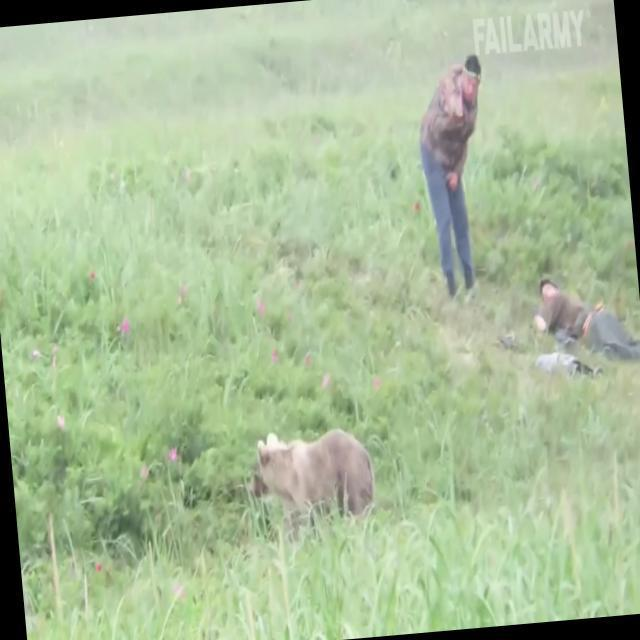person: (418, 55, 496, 292), (533, 270, 640, 379)
